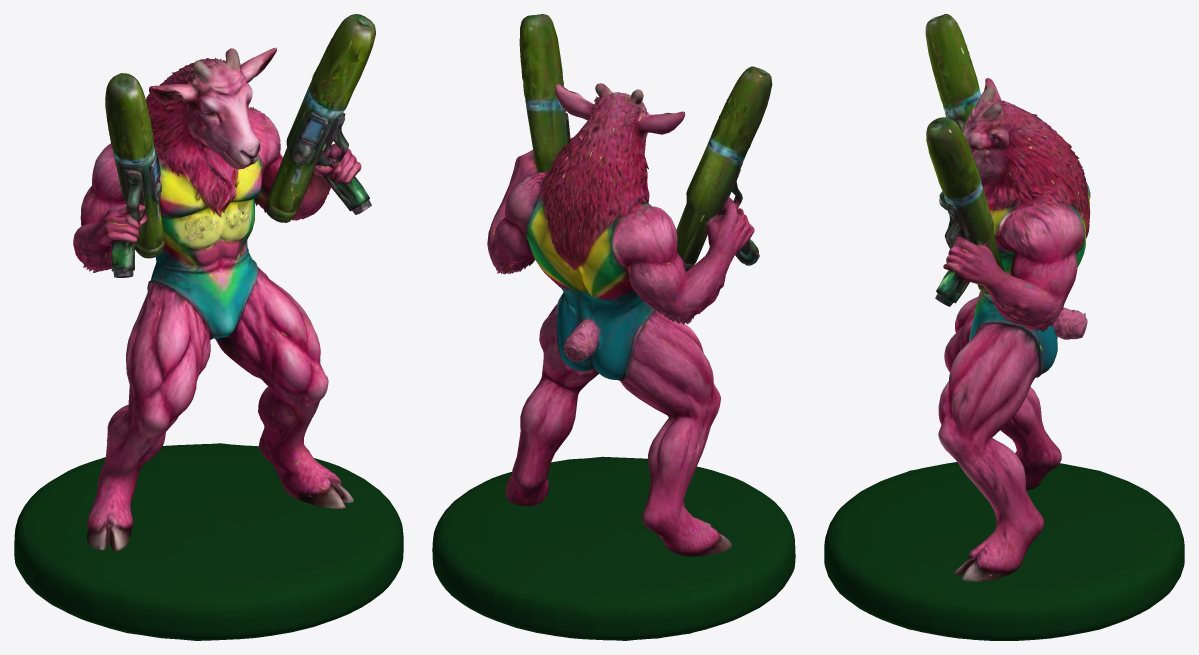
Rendered from Berta.glb.
3 renders of one model, left to right at view 1: azimuth 30°, elevation 25°; view 2: azimuth 150°, elevation 25°; view 3: azimuth 270°, elevation 25°, orthographic. The views are drawn at different scales.
Visible parts, largest first — view 1: node_0, Cylinder; view 2: node_0, Cylinder; view 3: node_0, Cylinder.
Boxes of the visible parts, <box> form: node_0: <box>73,14,375,550</box>; Cylinder: <box>14,443,403,640</box>; node_0: <box>487,14,772,556</box>; Cylinder: <box>432,456,795,640</box>; node_0: <box>925,14,1090,581</box>; Cylinder: <box>824,462,1184,640</box>.
Bounding box in the file's own units: 0.5806 × 0.9087 × 0.5806.
2 materials, 1 textured.
